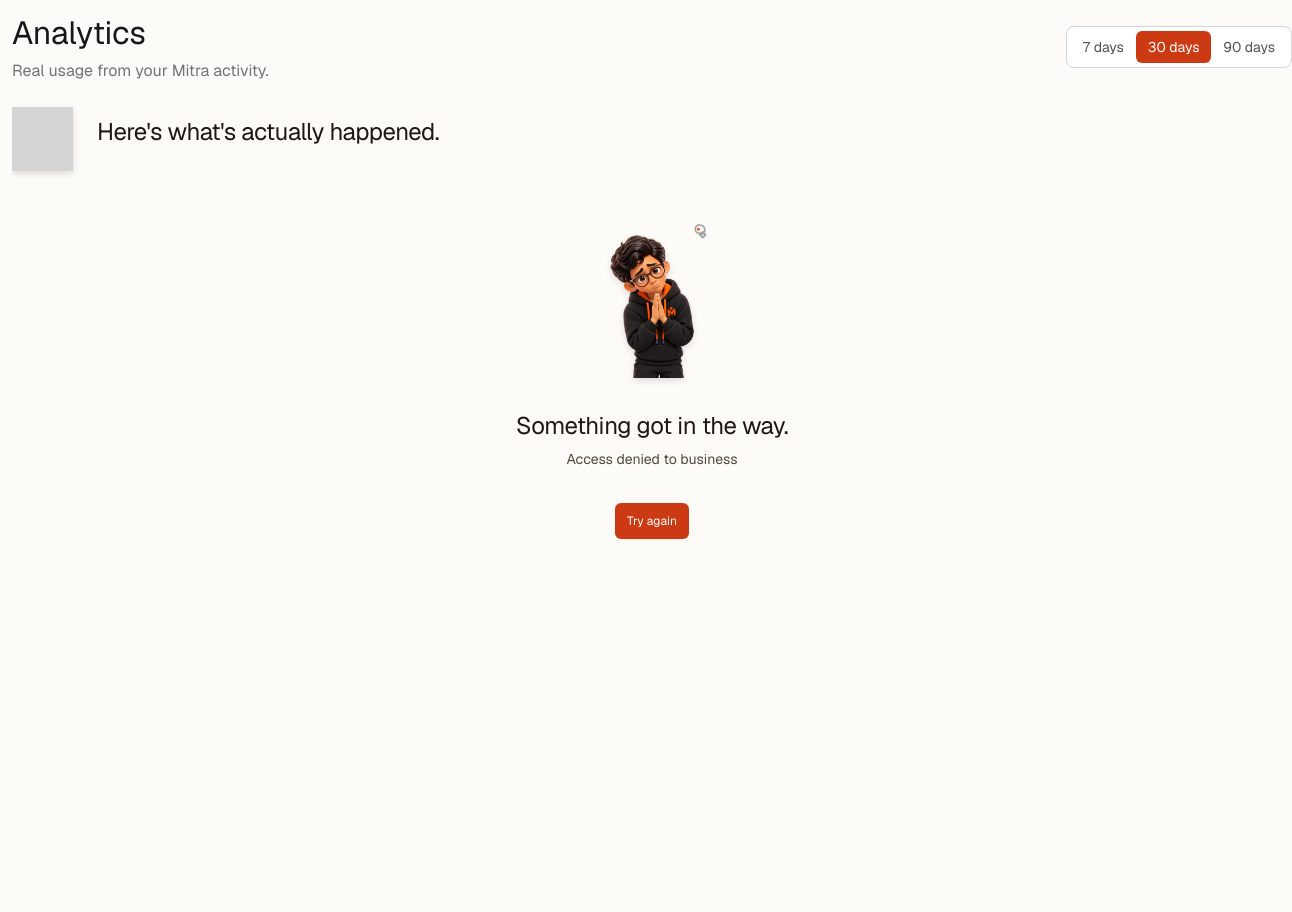
Test: AnalyticsPage (Phase 32) › clicking "Try again" after an error re-requests analytics data
Expected: the text "Something got in the way." is shown, [516, 409, 788, 442]
Click the button "Try again" at (652,521), box [615, 503, 689, 539]
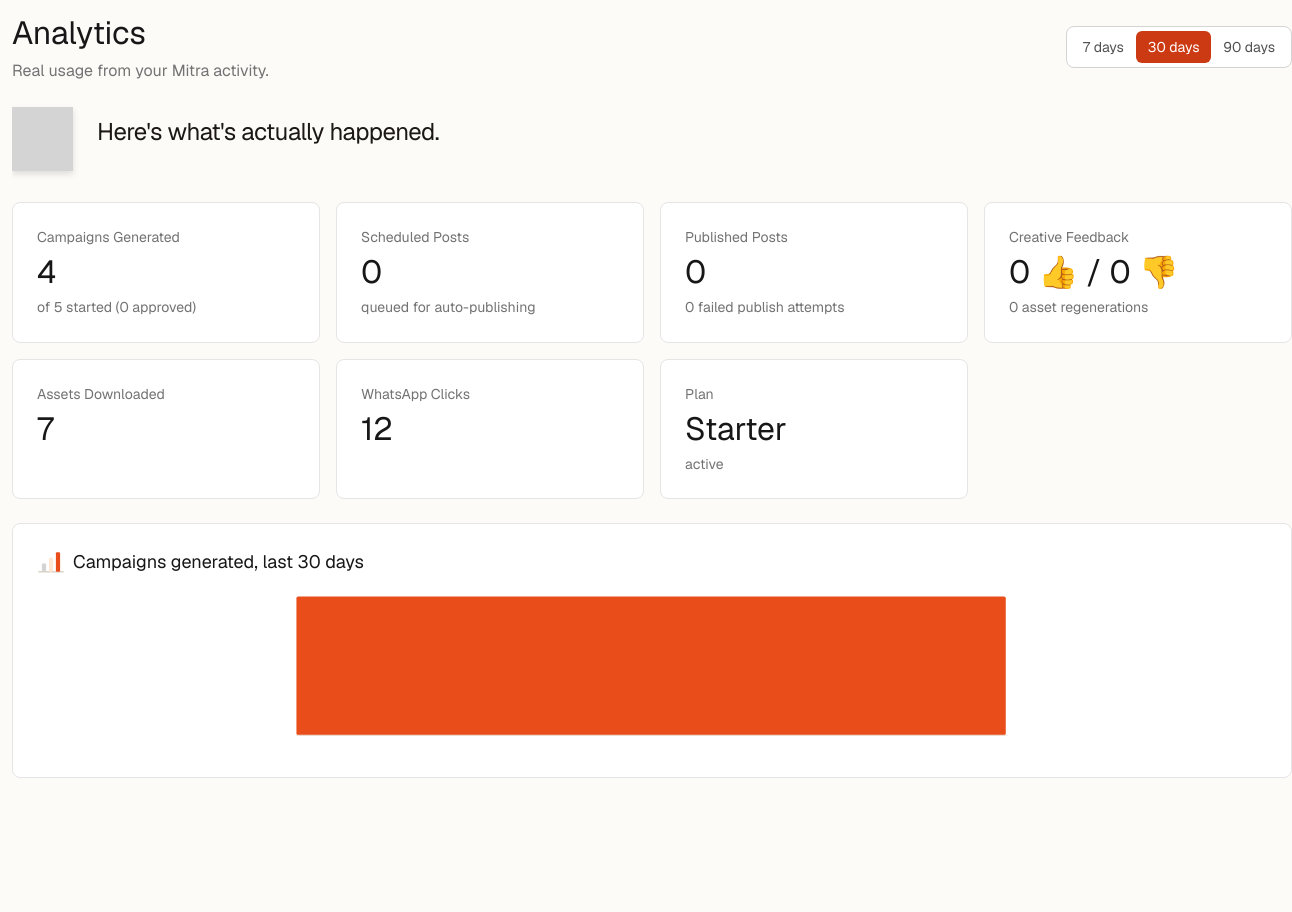
Expected: the text "Campaigns Generated" is shown, [37, 228, 180, 246]
